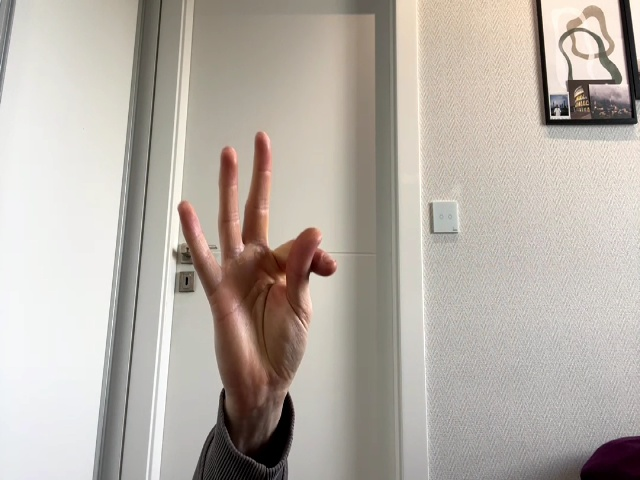T: (179, 131, 336, 395)
